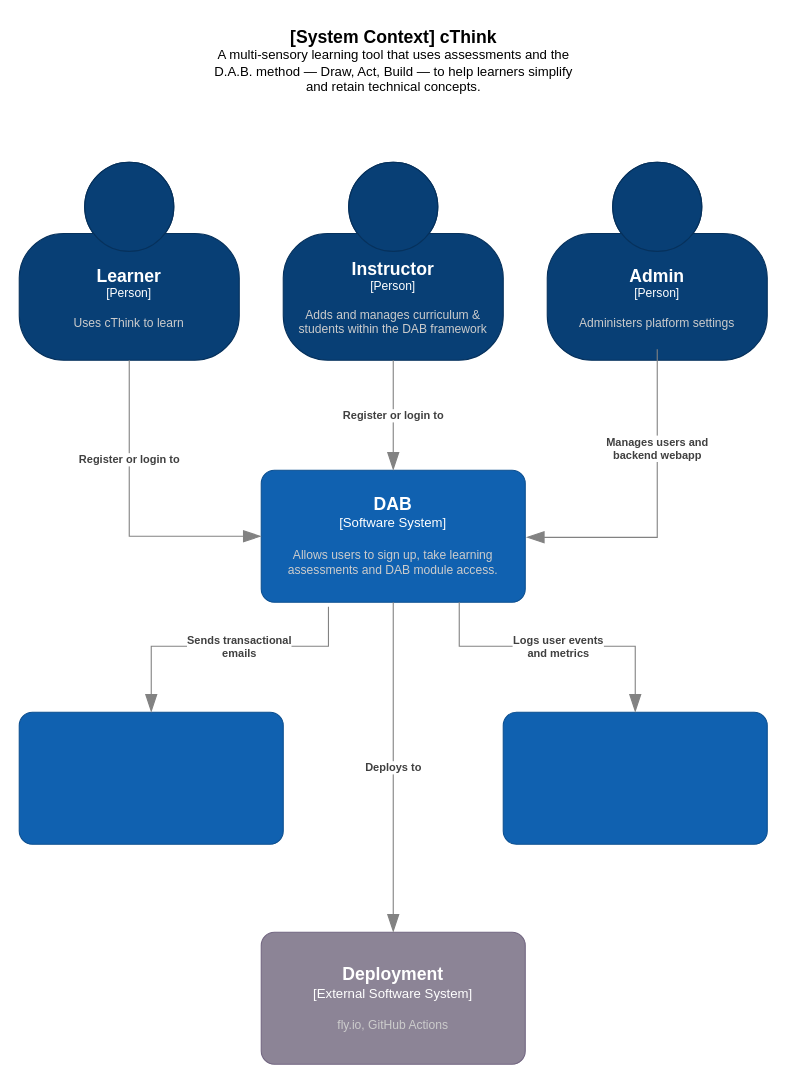
Image size: 787x1084. Some labels were removed from this diagram. Here are the shapes that lost their labels. From the top down, the centre of each, then its label:
At point (150, 777): "Email/Notification [Software System] e.g. AWS SES".
At point (634, 777): "Analytics [Software System] e.g Mixpanel, PostHog".
